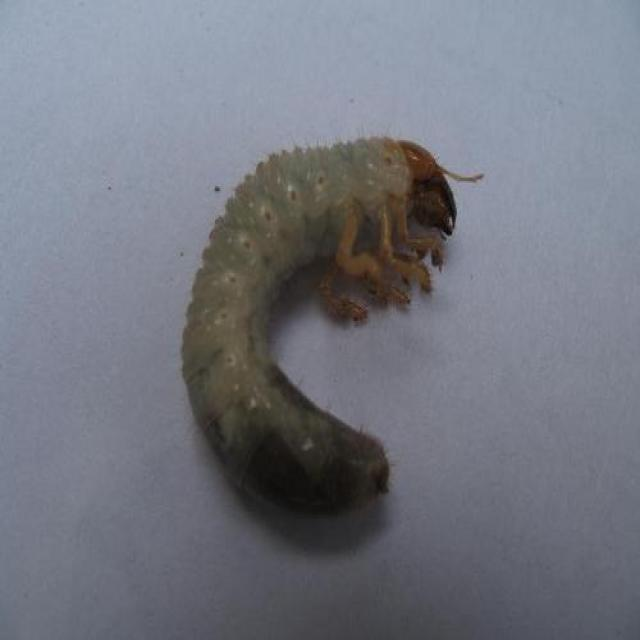Grub-Adult-: (160, 123, 474, 517)
